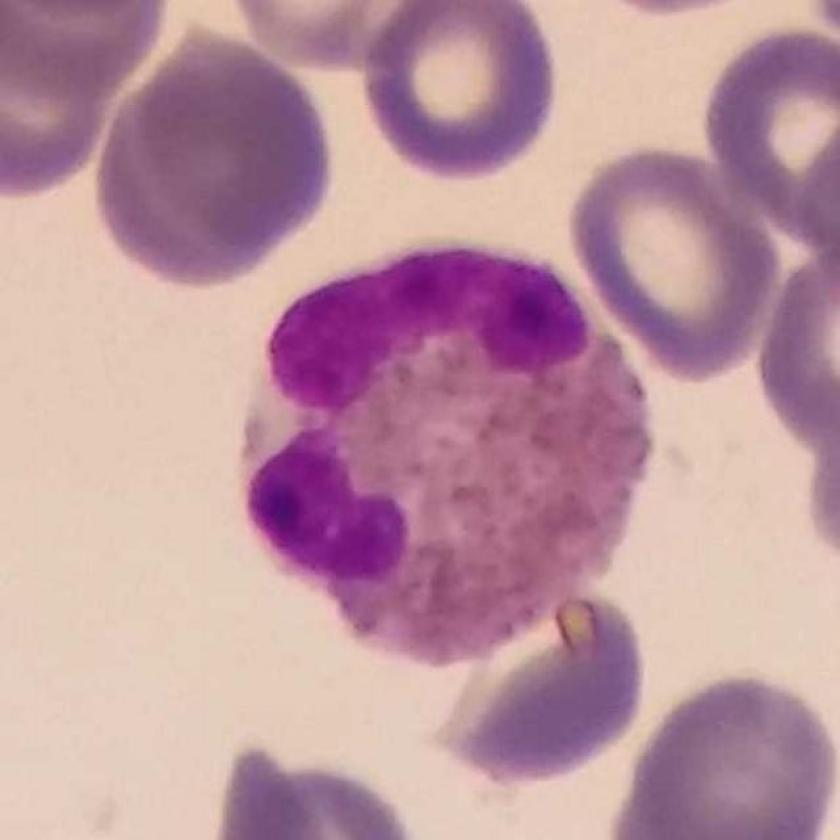eosinophil: (226, 240, 662, 668)
